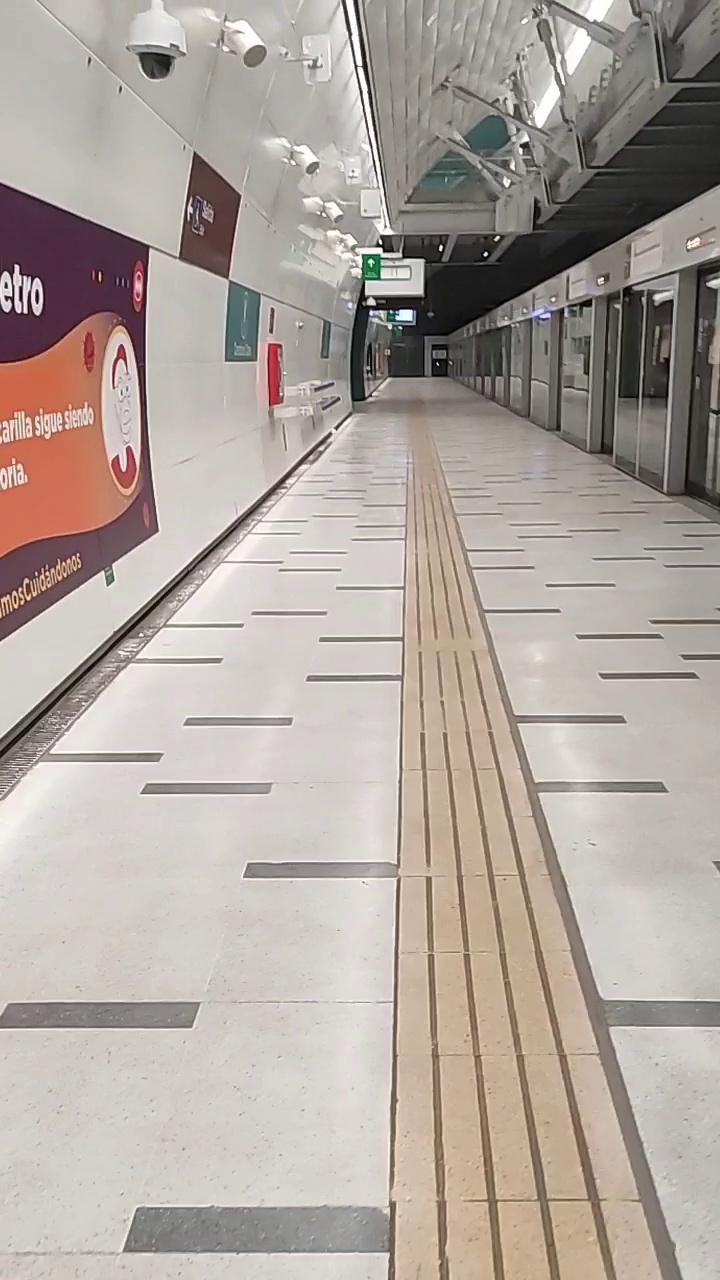handicapped symbol: (194, 198, 202, 232)
left arrow: (186, 196, 194, 220)
